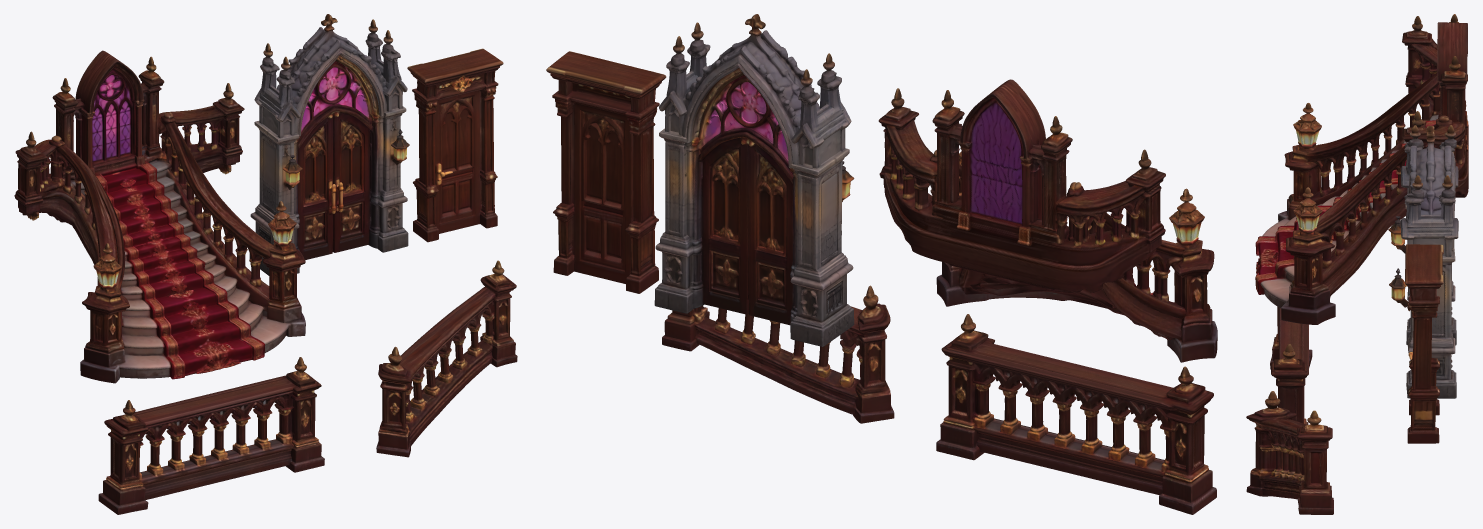
File: interior-stairs-doors-railings.glb
3 views of the same model, side by side, from view 1: azimuth 30°, elevation 25°; view 2: azimuth 150°, elevation 25°; view 3: azimuth 270°, elevation 25° (orthographic). The views are drawn at different scales.
Parts seen in each view (by area): view 1: model; view 2: model; view 3: model.
Boxes of the visible parts, x1=… form: model: x1=14, y1=14, x2=517, y2=514; model: x1=546, y1=14, x2=1217, y2=514; model: x1=1246, y1=14, x2=1468, y2=514.
Bounding box in the file's own units: 1.9 × 1.42 × 0.7658.
Materials: 1 (1 with a texture image).
